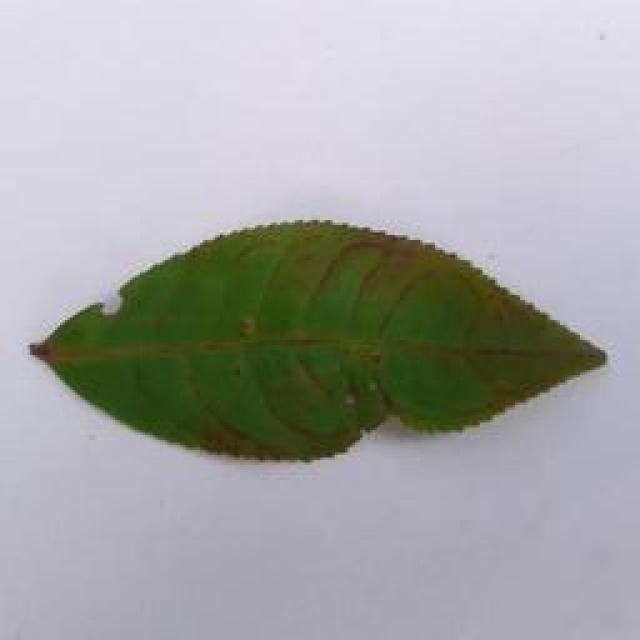Red Leaf Spot: (33, 204, 612, 480)
